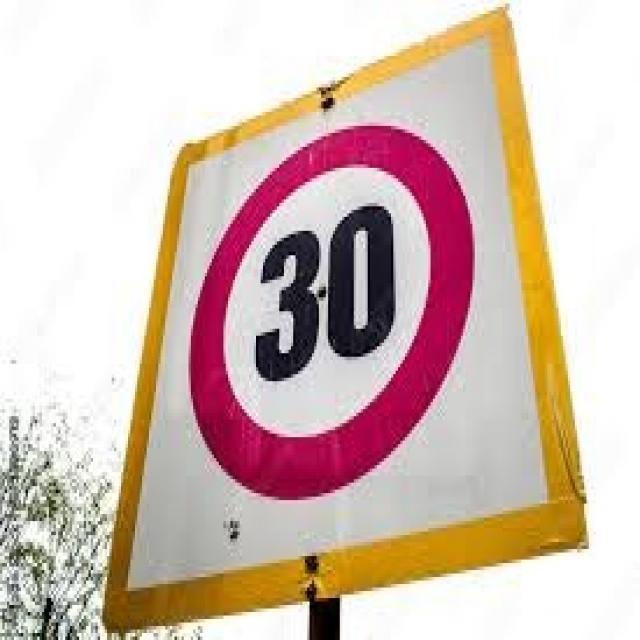speed_limit_30: (182, 117, 476, 503)
